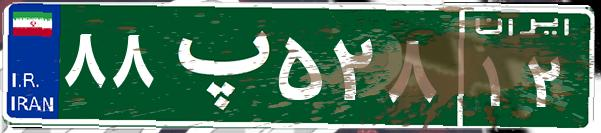1: (475, 38, 525, 113)
2: (330, 28, 385, 110), (525, 38, 570, 115)
5: (273, 28, 330, 110)
8: (385, 28, 445, 110), (57, 26, 110, 107), (110, 28, 158, 105)
پ: (158, 15, 273, 115)
